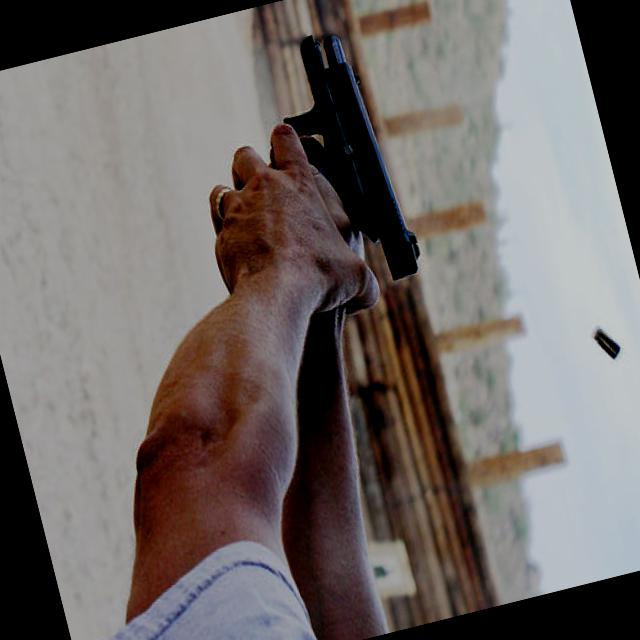handgun: (263, 18, 428, 294)
